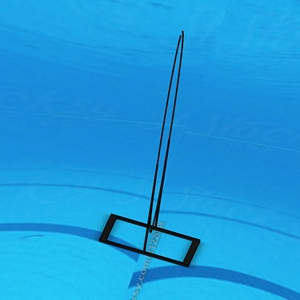circle: (96, 29, 207, 270)
